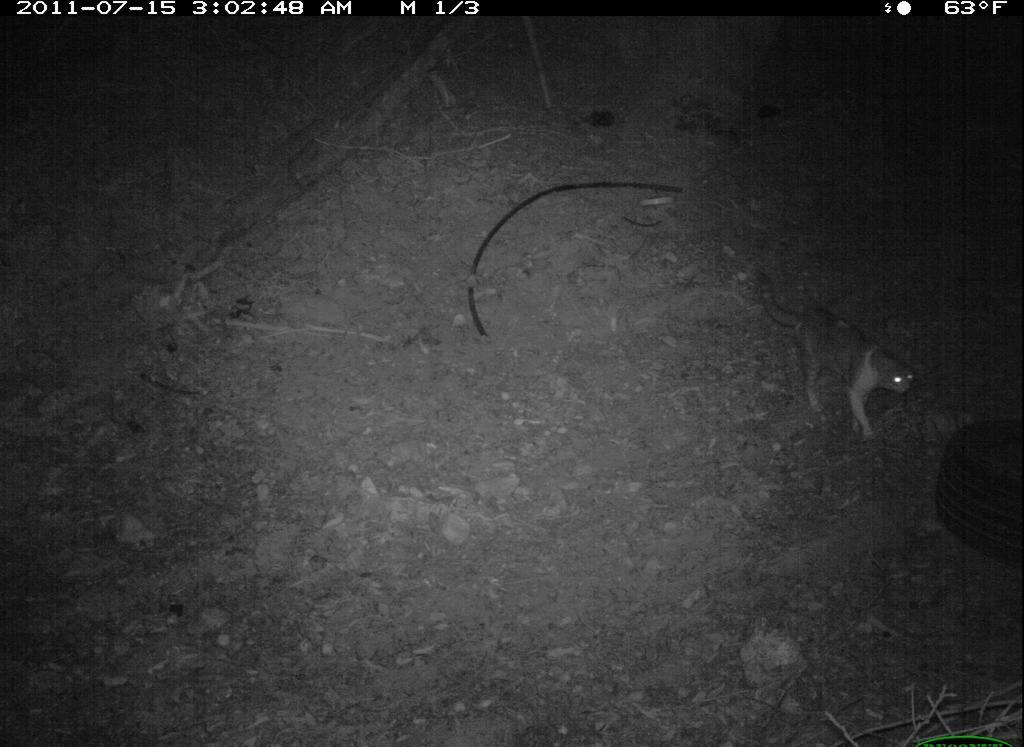cat: (739, 272, 930, 450)
